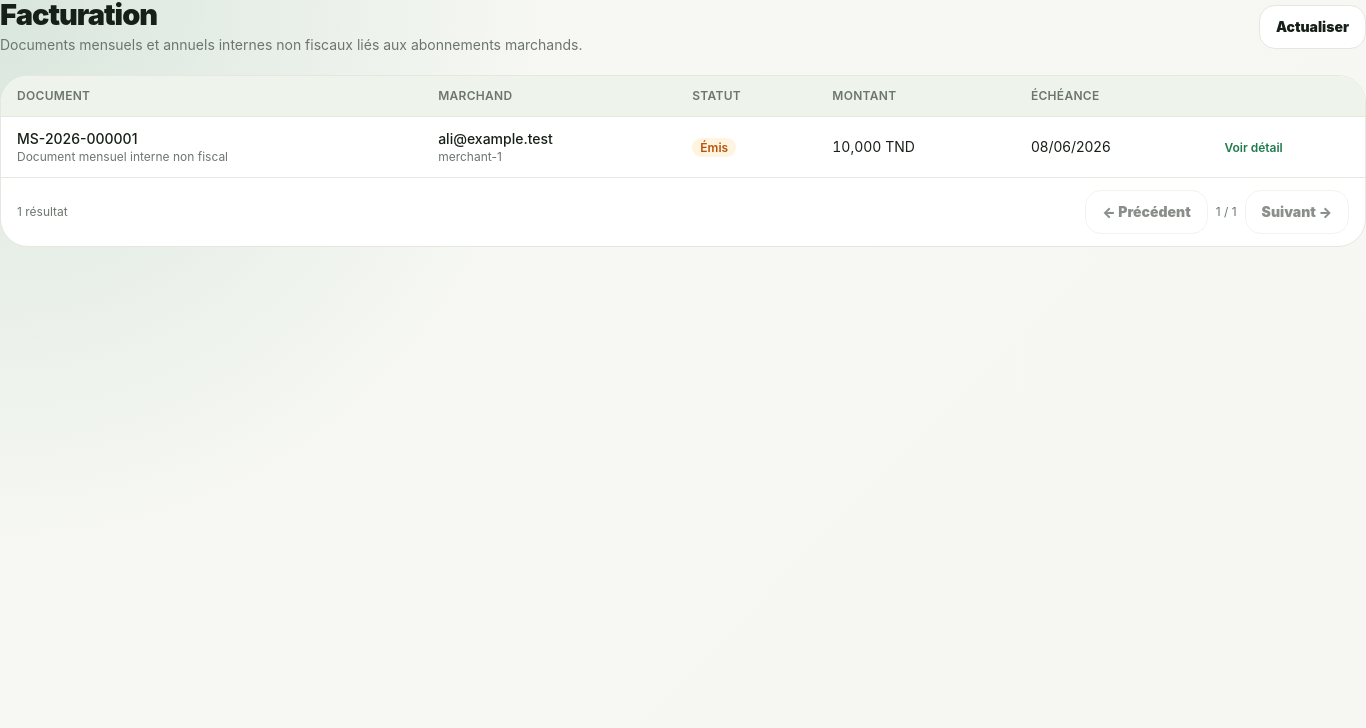
Test: AdminBillingDocumentsPage › opens a read-only admin billing document detail
This screenshot has width=1366, height=728.
Click the button with aria-label "Voir le détail document" at (1254, 148), box [1224, 140, 1283, 156]
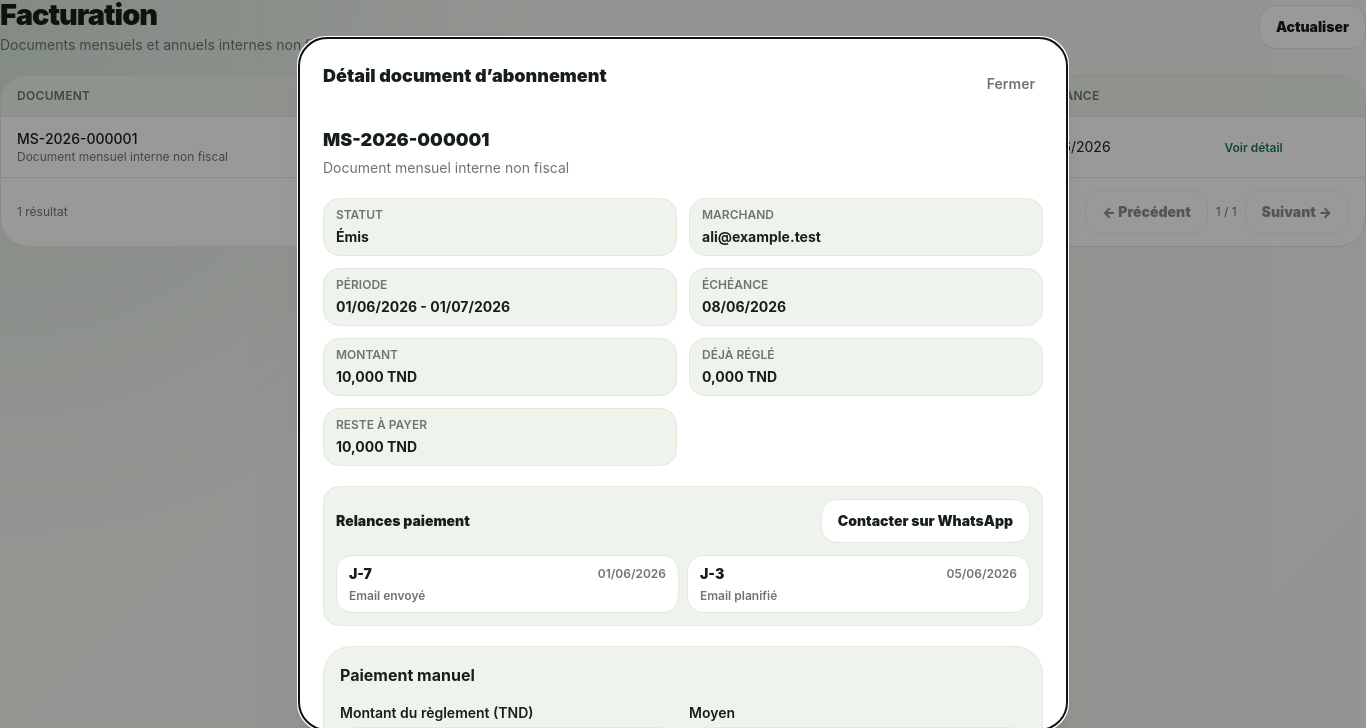
Now the heading "MS-2026-000001" is shown, box [323, 129, 489, 150]
Now the text "Reste à payer" is shown, box [336, 417, 427, 432]
Now the text "10,000 TND" is shown 2 times, box [336, 368, 417, 385]; [336, 438, 417, 455]
